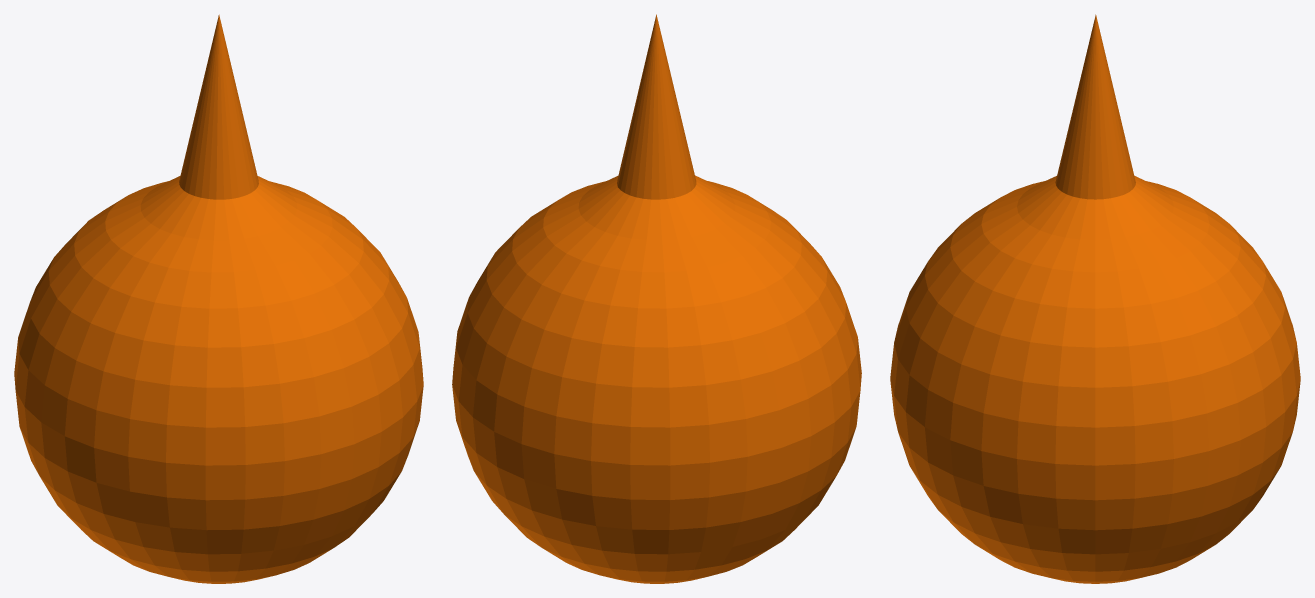
File: artillery.fbx
The picture shows the model from 3 angles, left to right: view 1: azimuth 30°, elevation 25°; view 2: azimuth 150°, elevation 25°; view 3: azimuth 270°, elevation 25°; orthographic projection.
Parts seen in each view (by area): view 1: Sphere; view 2: Sphere; view 3: Sphere.
Part boxes in pixels (x1,y1,x2,y2): Sphere: (14,14,423,583); Sphere: (452,14,861,583); Sphere: (890,14,1300,583).
Size of the model in its own units: 100 by 148 by 100.
